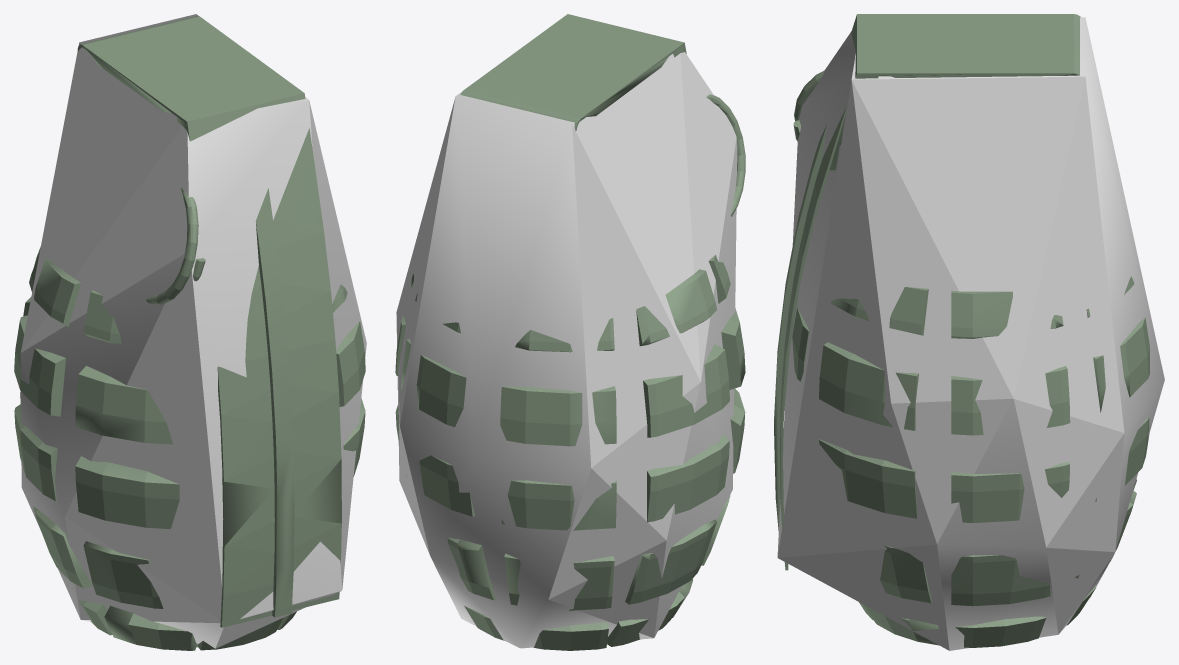
Rendered from grenade.fbx.
The picture shows the model from 3 angles, left to right: view 1: azimuth 30°, elevation 25°; view 2: azimuth 150°, elevation 25°; view 3: azimuth 270°, elevation 25°; orthographic projection. The views are drawn at different scales.
Visible parts, largest first — view 1: px_body, body; view 2: px_body, body; view 3: px_body, body.
Part boxes in pixels (x1,y1,x2,y2): px_body: [20, 14, 366, 648]; body: [14, 16, 365, 650]; px_body: [396, 52, 737, 648]; body: [395, 14, 745, 650]; px_body: [777, 17, 1164, 650]; body: [774, 14, 1149, 647].
Size of the model in its own units: 3.23 by 5.43 by 3.44.
